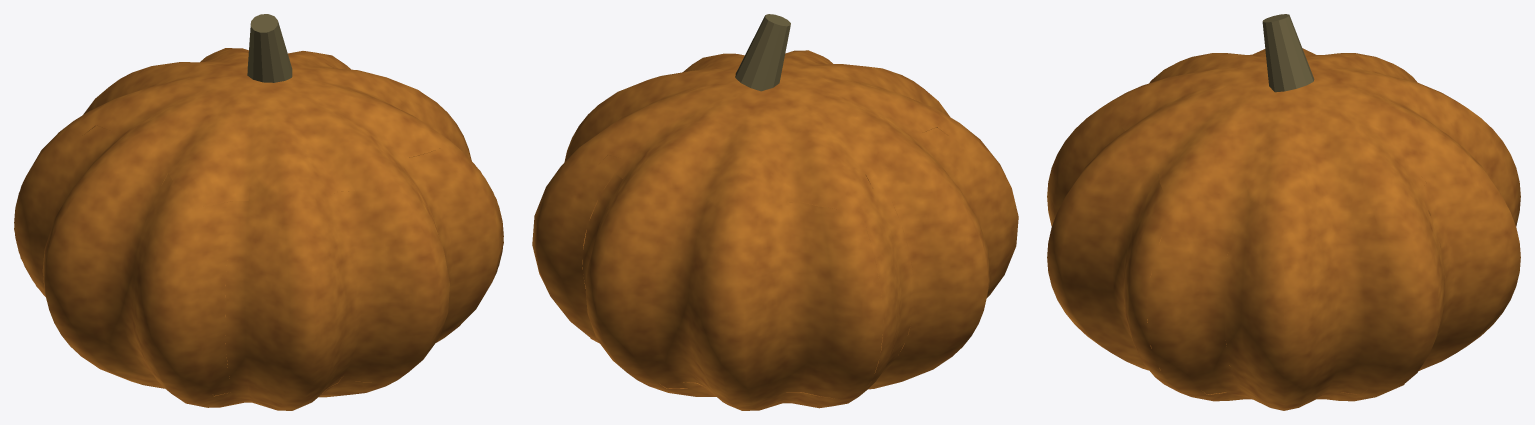
Rendered from pumpkin.glb.
3 views of the same model, side by side, from view 1: azimuth 30°, elevation 25°; view 2: azimuth 150°, elevation 25°; view 3: azimuth 270°, elevation 25° (orthographic).
Visible parts, largest first — view 1: pumpkin; view 2: pumpkin; view 3: pumpkin.
Boxes of the visible parts, left/top/right/bottom form: pumpkin: left=14, top=14, right=503, bottom=410; pumpkin: left=532, top=14, right=1018, bottom=410; pumpkin: left=1047, top=14, right=1520, bottom=410.
Bounding box in the file's own units: 0.9526 × 0.7726 × 0.9101.
2 materials, 1 textured.
